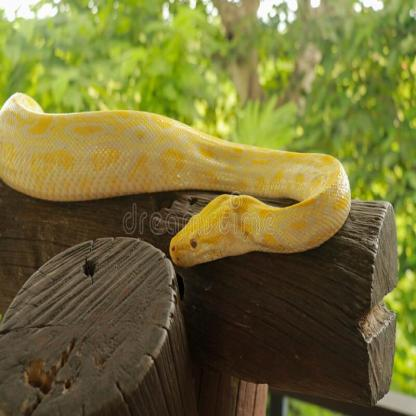Snake: (0, 90, 354, 269)
